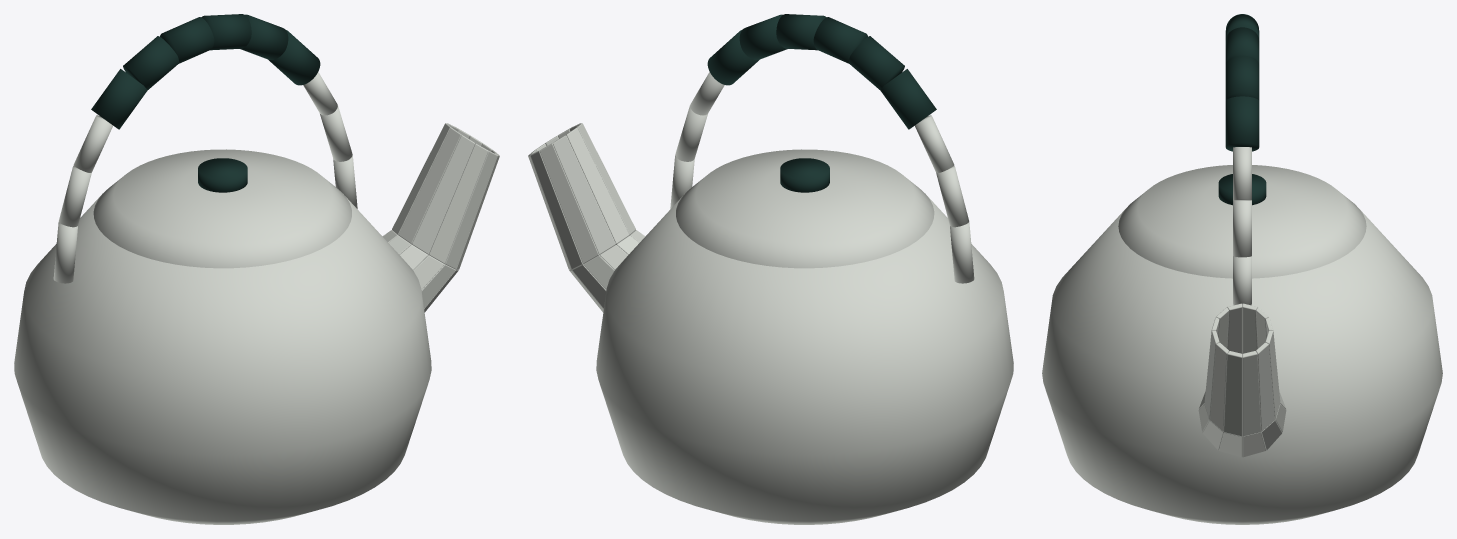
File: kettle.glb
The picture shows the model from 3 angles, left to right: view 1: azimuth 30°, elevation 25°; view 2: azimuth 150°, elevation 25°; view 3: azimuth 270°, elevation 25°; orthographic projection. The views are drawn at different scales.
Visible parts, largest first — view 1: kettle; view 2: kettle; view 3: kettle.
Part boxes in pixels (x1,y1,x2,y2): kettle: (14,14,499,524); kettle: (528,14,1013,524); kettle: (1042,14,1442,524).
Size of the model in its own units: 0.1892 by 0.1808 by 0.1512.
